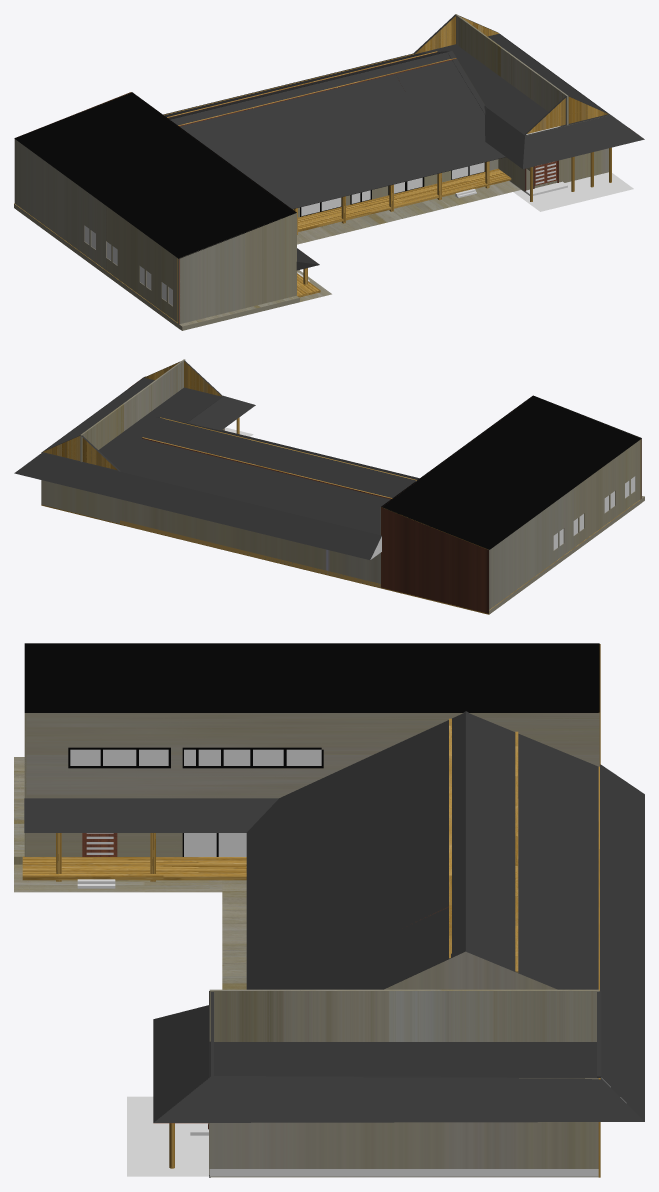
3 renders of one model, top to bottom at view 1: azimuth 30°, elevation 25°; view 2: azimuth 150°, elevation 25°; view 3: azimuth 270°, elevation 25°, orthographic. The views are drawn at different scales.
Parts seen in each view (by area): view 1: 平面.007, 立方体.020, 立方体.015, 立方体.014, 立方体, 平面.002, 平面, 平面.008, 立方体.011, 平面.001, 立方体.001, 平面.003 (+1 smaller); view 2: 立方体.020, 立方体.002, 立方体.001, 平面.010, 立方体.015, 立方体, 平面.002, 平面, 平面.003, 平面.001, 平面.007; view 3: 立方体.020, 平面.007, 立方体.001, 平面.002, 平面.009, 立方体.004, 立方体, 平面.010, 平面.006, 立方体.016, 平面.008, 平面 (+3 smaller).
Part boxes in pixels (bbox=[...]): 平面.007: bbox=[170, 51, 505, 209]; 立方体.020: bbox=[14, 92, 296, 294]; 立方体.015: bbox=[14, 139, 180, 326]; 立方体.014: bbox=[179, 213, 296, 323]; 立方体: bbox=[413, 15, 609, 190]; 平面.002: bbox=[455, 14, 633, 211]; 平面: bbox=[167, 51, 520, 244]; 平面.008: bbox=[523, 114, 644, 168]; 立方体.011: bbox=[298, 168, 511, 231]; 平面.001: bbox=[14, 203, 331, 330]; 立方体.001: bbox=[164, 51, 526, 192]; 平面.003: bbox=[484, 105, 524, 168]; 立方体.020: bbox=[380, 395, 641, 549]; 立方体.002: bbox=[41, 453, 488, 614]; 立方体.001: bbox=[120, 417, 416, 534]; 平面.010: bbox=[14, 452, 381, 559]; 立方体.015: bbox=[488, 439, 641, 614]; 立方体: bbox=[41, 361, 223, 471]; 平面.002: bbox=[80, 359, 253, 461]; 平面: bbox=[120, 417, 416, 587]; 平面.003: bbox=[187, 396, 255, 430]; 平面.001: bbox=[489, 439, 644, 614]; 平面.007: bbox=[156, 417, 419, 480]; 立方体.020: bbox=[24, 643, 599, 856]; 平面.007: bbox=[246, 711, 465, 989]; 立方体.001: bbox=[384, 711, 598, 989]; 平面.002: bbox=[127, 989, 599, 1176]; 平面.009: bbox=[154, 1076, 644, 1122]; 立方体.004: bbox=[210, 1078, 598, 1177]; 立方体: bbox=[208, 991, 601, 1177]; 平面.010: bbox=[600, 764, 644, 1121]; 平面.006: bbox=[24, 798, 278, 832]; 立方体.016: bbox=[22, 856, 246, 880]; 平面.008: bbox=[153, 1005, 210, 1123]; 平面: bbox=[222, 718, 518, 989].
Size of the model in its own units: 107002 by 18037 by 66727.
